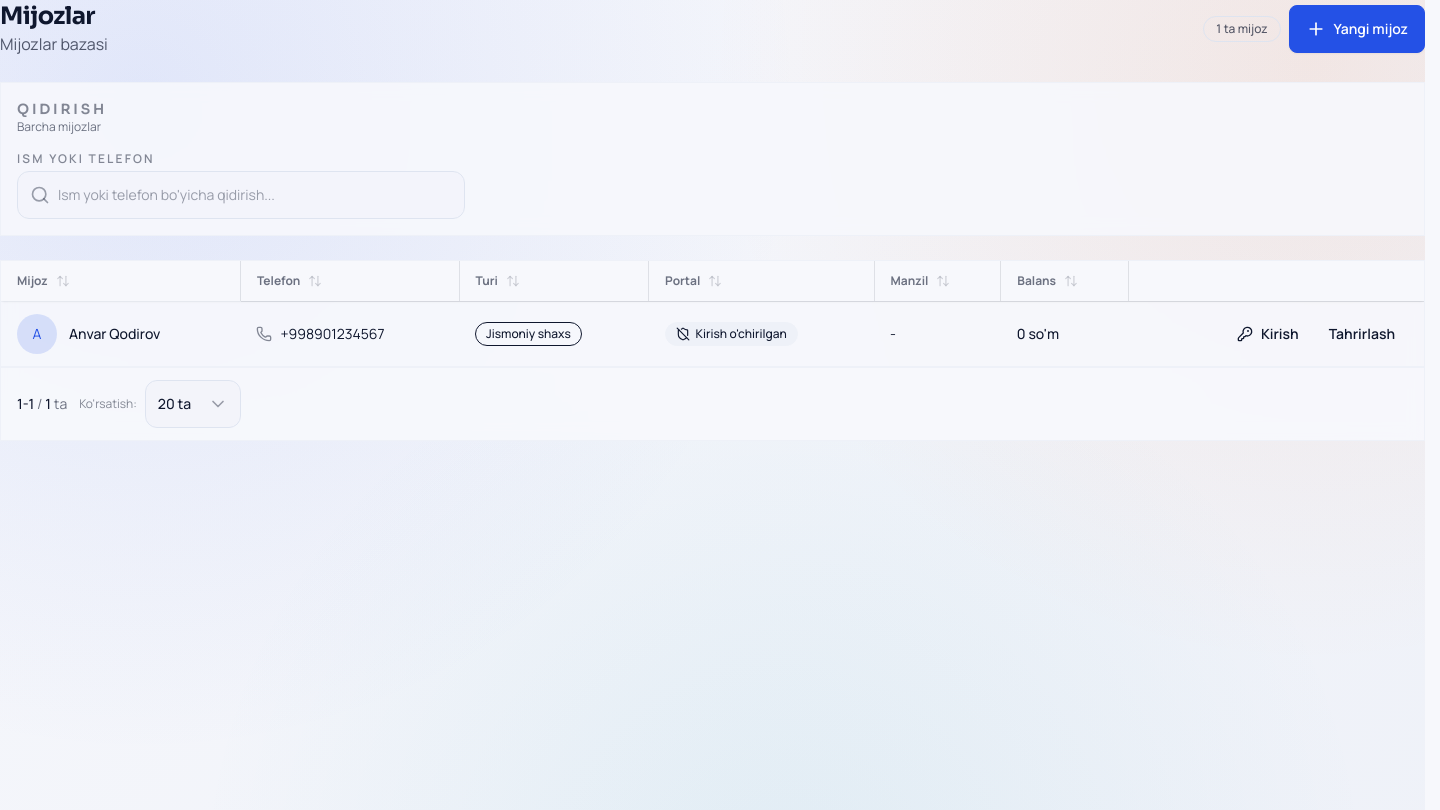
Test: CustomersPage › tahrirlashda forma mijoz ma'lumoti bilan to'ladi
The width and height of the screenshot is (1440, 810).
Expected: the text "Anvar Qodirov" is shown, top-left (69, 324), bottom-right (160, 344)
Step 1. Click the button "Tahrirlash" → click(1362, 334), box top-left (1316, 318), bottom-right (1408, 350)
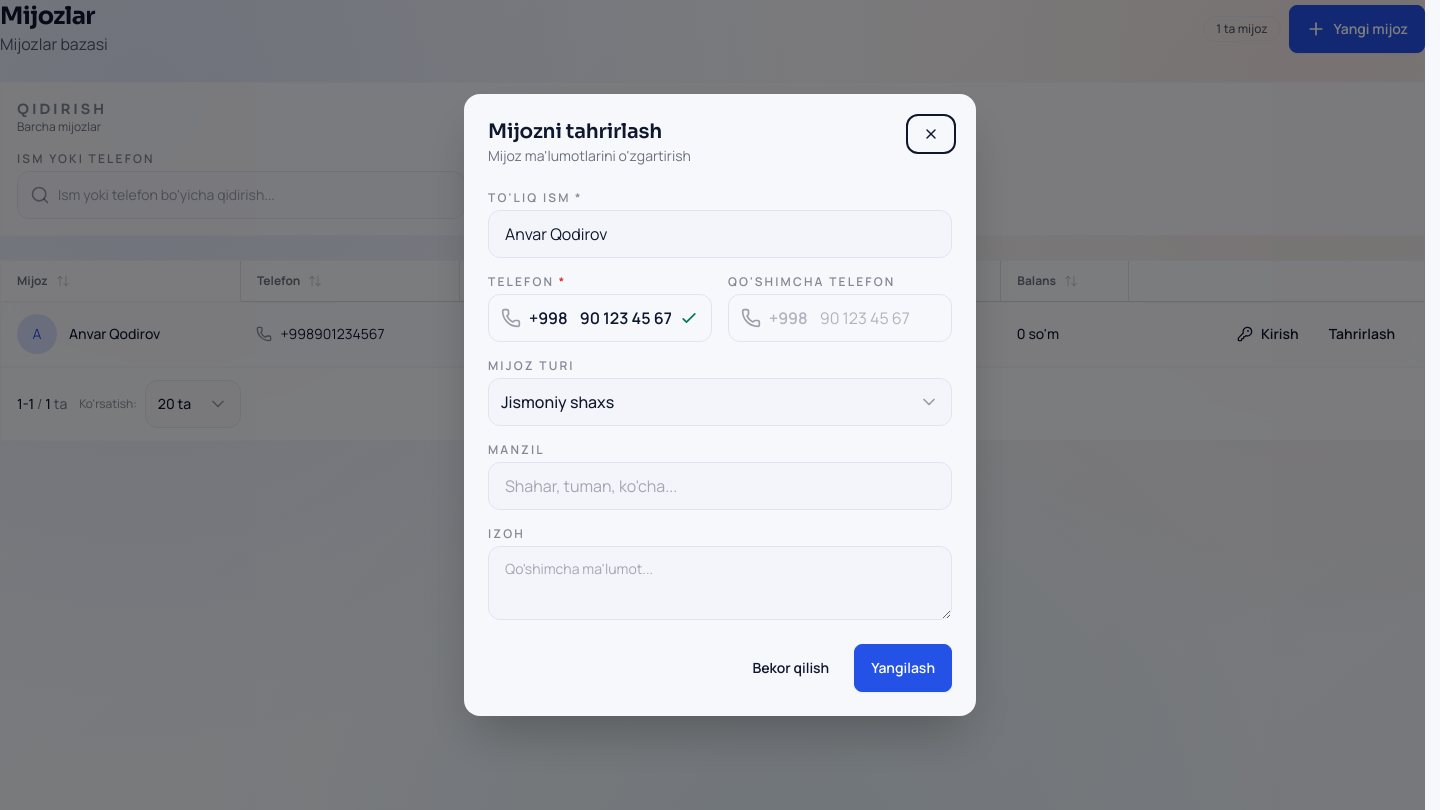
Expected: the field showing "Anvar Qodirov" is shown, top-left (488, 210), bottom-right (952, 258)
